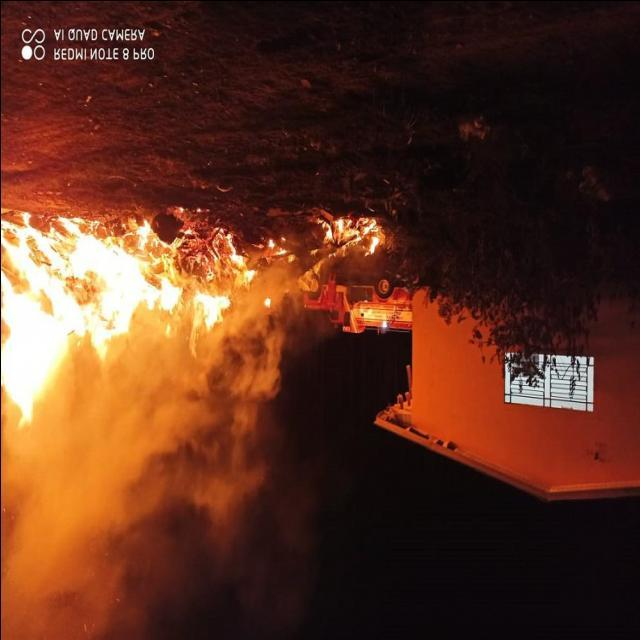Fire: (2, 219, 182, 427), (320, 208, 379, 254), (193, 292, 231, 333), (226, 229, 253, 286)
